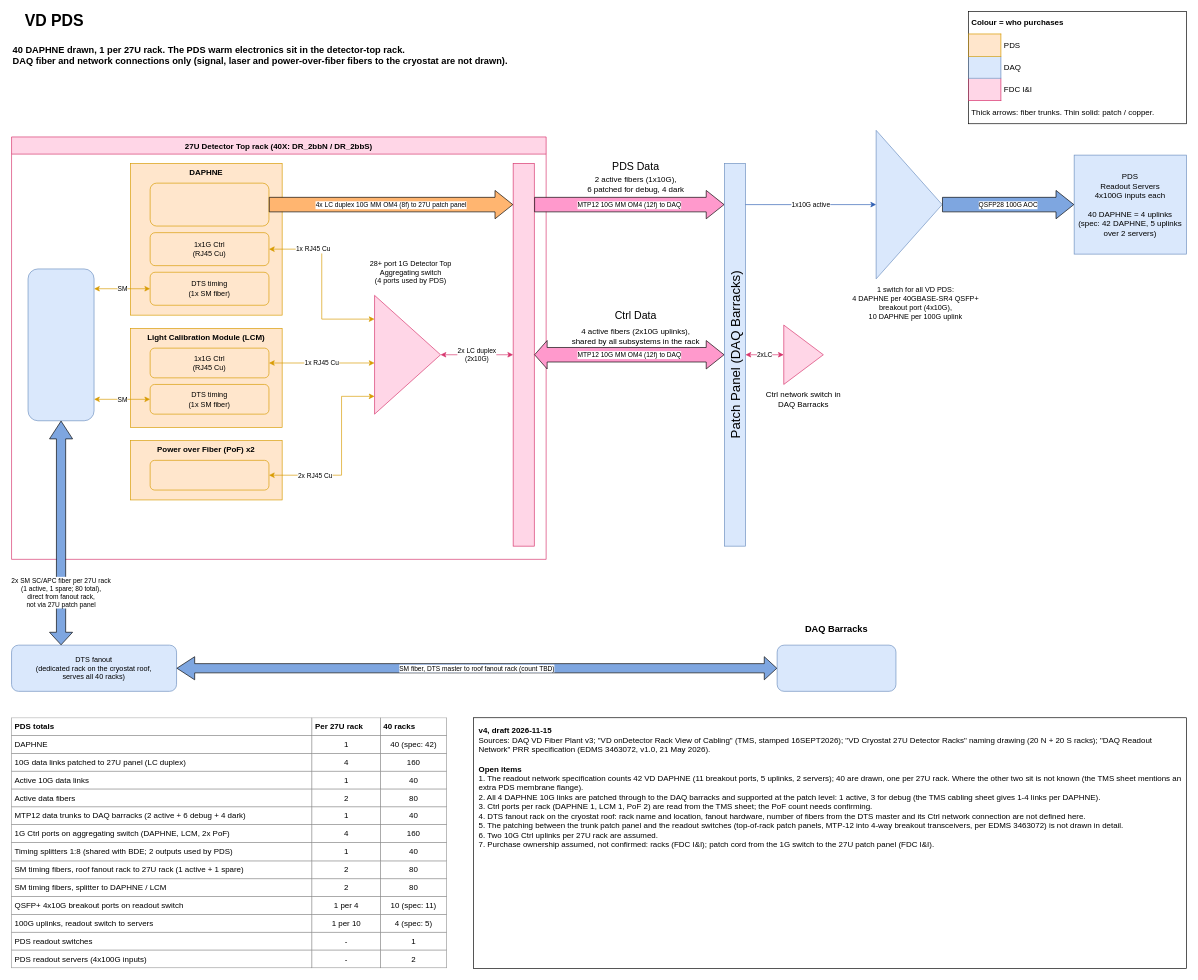
Image size: 1198x980. Some labels were removed from this diagram. The shapes that lost their labels are listed below. From the top down, each one's centre as x and y in pixels, then its label:
the point at 209,204: 4x 10G Data (LC duplex) 1 active, 3 patched for debug
the point at 908,204: Readout Switch in DAQ Barracks
the point at 60,344: Timing splitter 1:8 shared with BDE (2 outputs, 1 per PTC)
the point at 407,354: 1G Ctrl agg. switch
the point at 523,354: Patch Panel (27U)
the point at 209,475: 1x1G Ctrl each (RJ45 Cu)
the point at 836,667: DTS master (2x DTS uTCA crate)
